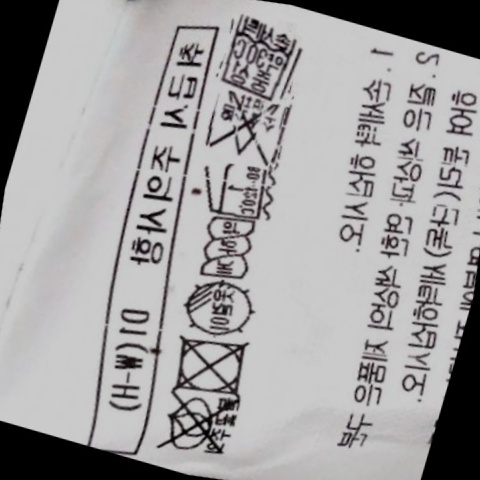DN_tumble_dry: (161, 322, 263, 409)
hand_wash: (211, 13, 309, 104)
iron_low: (196, 151, 279, 229)
line_dry_in_shade: (172, 269, 266, 347)
wring: (192, 209, 265, 290)
